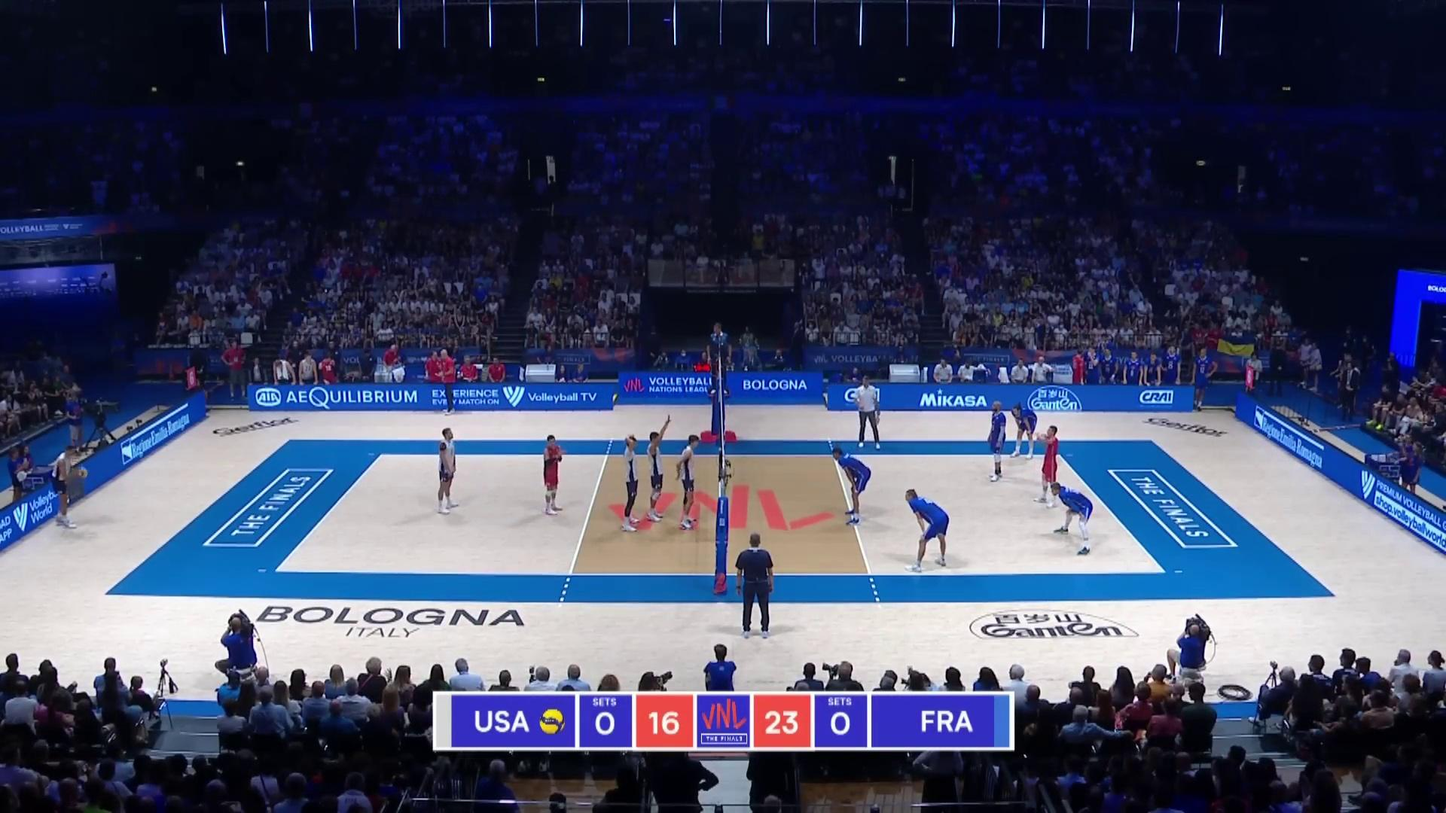player: (904, 490, 949, 573), (830, 444, 873, 526), (1050, 483, 1096, 556), (52, 443, 87, 531), (645, 427, 668, 524), (984, 400, 1010, 483), (623, 431, 643, 529), (541, 434, 565, 513), (435, 427, 457, 513), (681, 437, 701, 528), (1038, 424, 1060, 506), (1011, 404, 1039, 462)
refree: (735, 534, 775, 639), (708, 323, 732, 396)
